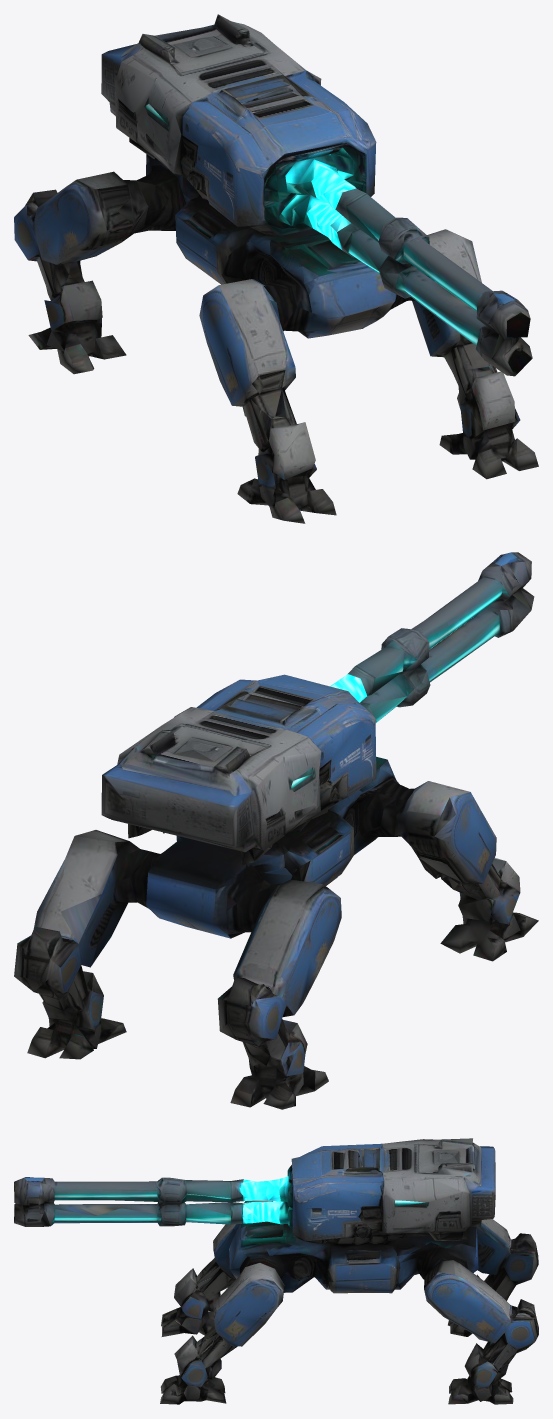
The model's file is unit_lancer.glb.
3 views of the same model, one above another, from view 1: azimuth 30°, elevation 25°; view 2: azimuth 150°, elevation 25°; view 3: azimuth 270°, elevation 25° (orthographic). The views are drawn at different scales.
Visible parts, largest first — view 1: unit_lancer; view 2: unit_lancer; view 3: unit_lancer.
Part boxes in pixels (left/top/right/bottom): unit_lancer: left=14, top=14, right=538, bottom=523; unit_lancer: left=14, top=552, right=538, bottom=1109; unit_lancer: left=14, top=1138, right=538, bottom=1404.
Size of the model in its own units: 0.8663 by 1 by 2.25.
1 material, 1 textured.
